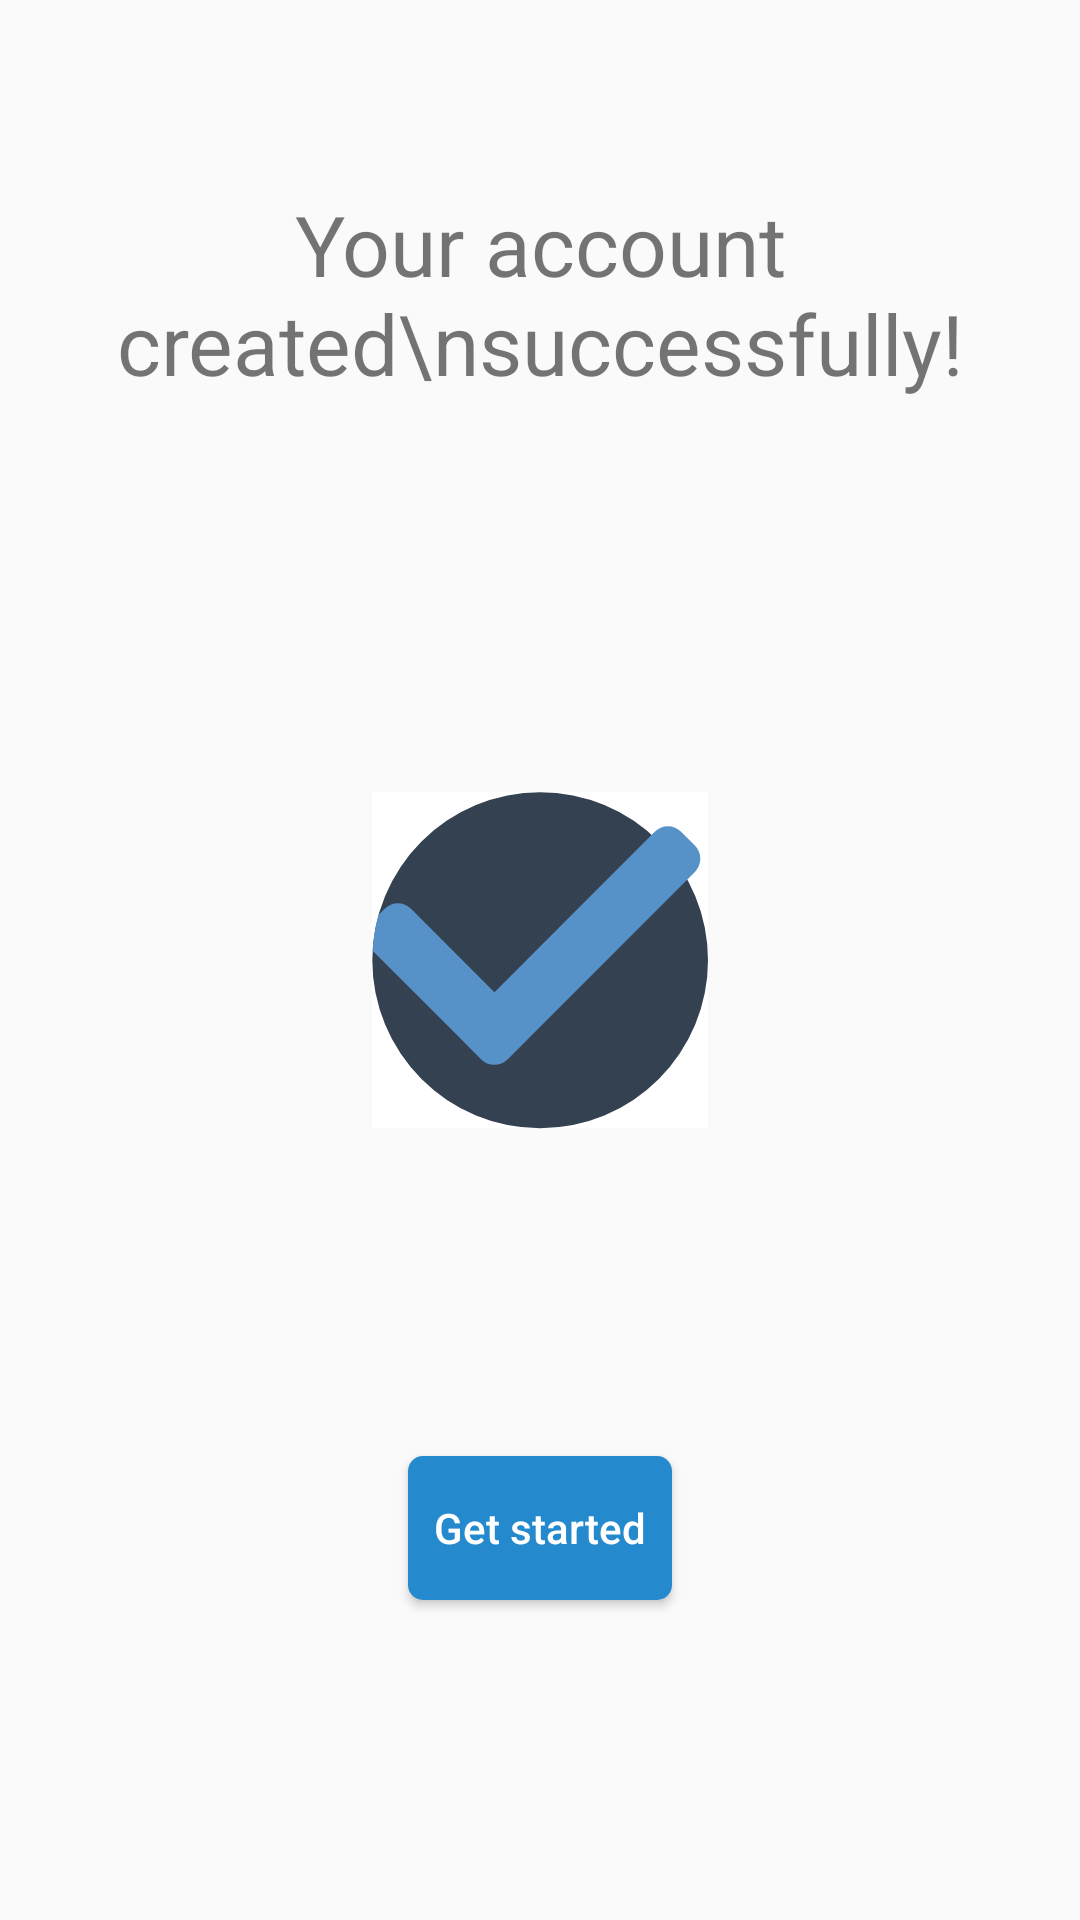

Named icons in this screenshot (1080w x 1920h) and their centers, (x=x, y=y):
success registeration: (x=540, y=960)
